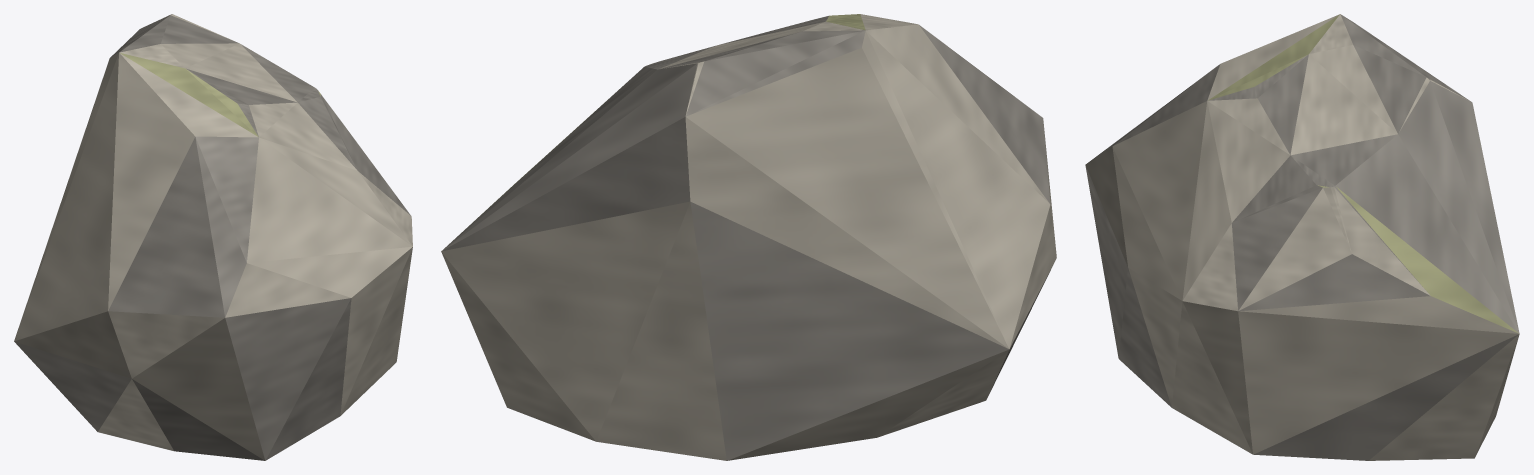
Rendered from rock_medium_05.fbx.
The picture shows the model from 3 angles, left to right: view 1: azimuth 30°, elevation 25°; view 2: azimuth 150°, elevation 25°; view 3: azimuth 270°, elevation 25°; orthographic projection. The views are drawn at different scales.
Parts seen in each view (by area): view 1: rock_medium_05; view 2: rock_medium_05; view 3: rock_medium_05.
Boxes of the visible parts, x1,y1,x2,y2 form: rock_medium_05: [14, 14, 412, 460]; rock_medium_05: [441, 14, 1056, 460]; rock_medium_05: [1085, 14, 1519, 460].
Size of the model in its own units: 1.5 by 1.23 by 1.47.
